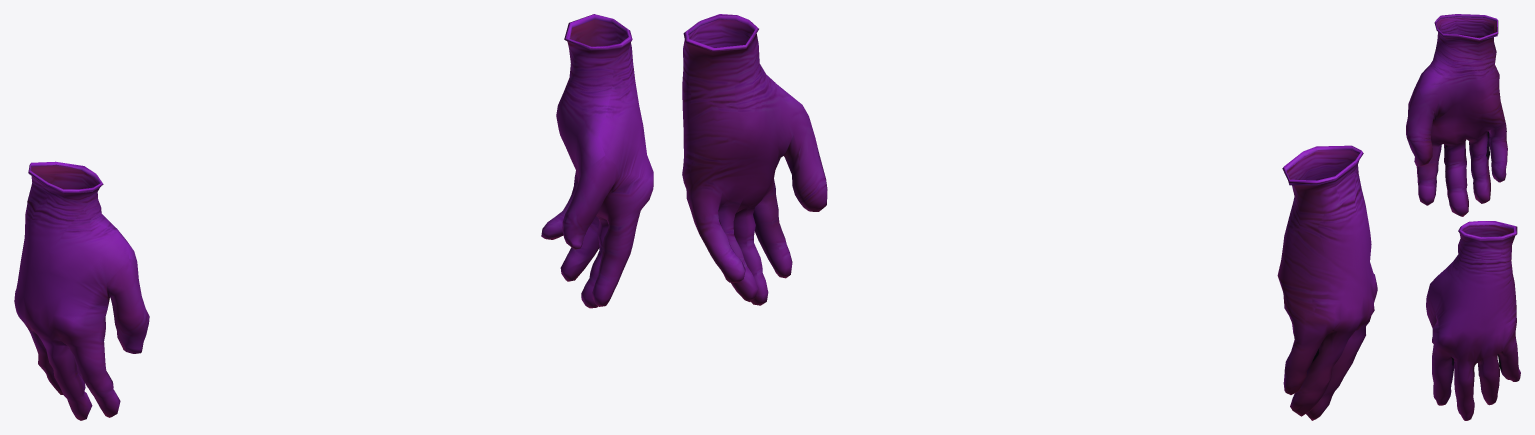
The model's file is gloves.fbx.
3 renders of one model, left to right at view 1: azimuth 30°, elevation 25°; view 2: azimuth 150°, elevation 25°; view 3: azimuth 270°, elevation 25°, orthographic. The views are drawn at different scales.
Parts seen in each view (by area): view 1: Glove, Glove_on_hands; view 2: Glove_on_hands, Glove; view 3: Glove, Glove_on_hands.
Part boxes in pixels (box(x1,y1,x2,y2)): Glove: box(14, 161, 149, 420); Glove_on_hands: box(541, 14, 653, 308); Glove_on_hands: box(682, 14, 827, 305); Glove: box(1277, 145, 1377, 420); Glove: box(1406, 14, 1507, 216); Glove_on_hands: box(1426, 221, 1520, 420).
Bounding box in the file's own units: 17.25 × 7.02 × 3.63.
1 material, 1 textured.
